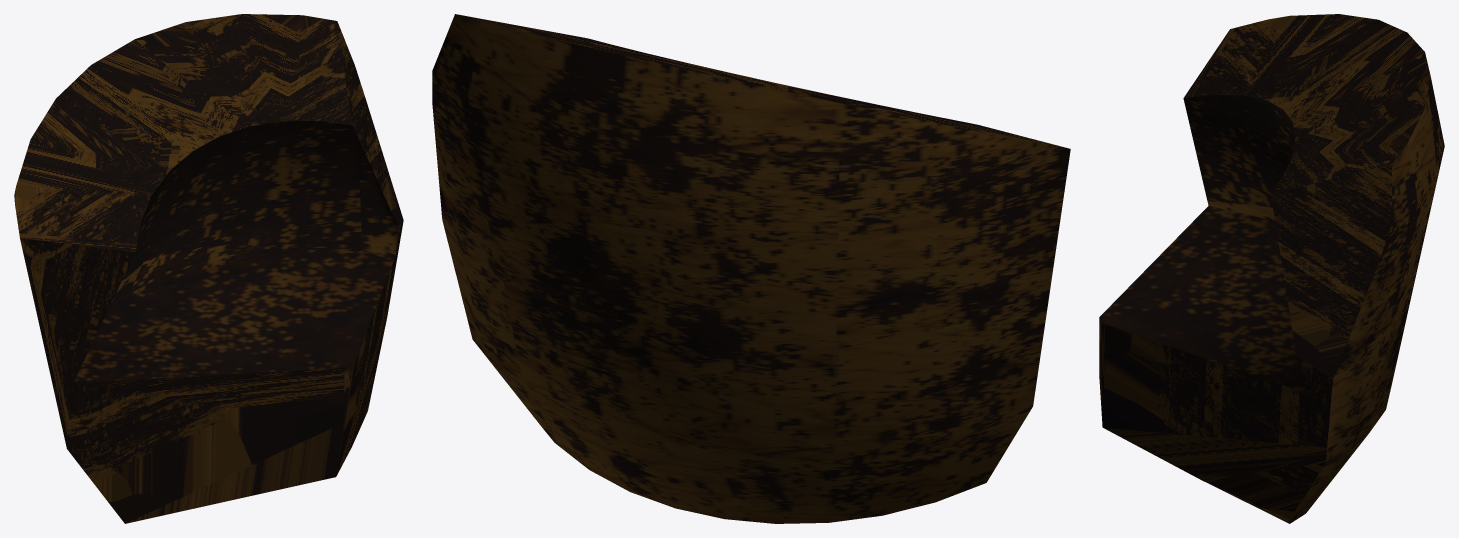
The model's file is PoteryPiece1.fbx.
3 views of the same model, side by side, from view 1: azimuth 30°, elevation 25°; view 2: azimuth 150°, elevation 25°; view 3: azimuth 270°, elevation 25° (orthographic). The views are drawn at different scales.
Parts seen in each view (by area): view 1: Cylinder_cell; view 2: Cylinder_cell; view 3: Cylinder_cell.
Boxes of the visible parts, x1,y1,x2,y2 form: Cylinder_cell: [14, 14, 403, 523]; Cylinder_cell: [432, 14, 1070, 523]; Cylinder_cell: [1099, 14, 1444, 523].
Bounding box in the file's own units: 223 × 193 × 148.
